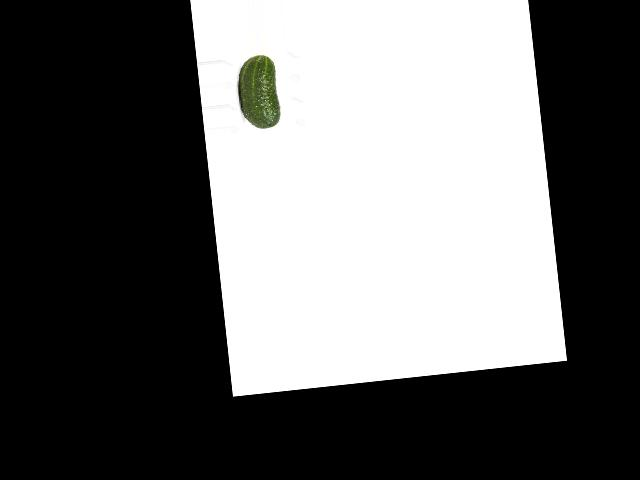cucumber: (234, 53, 281, 131)
